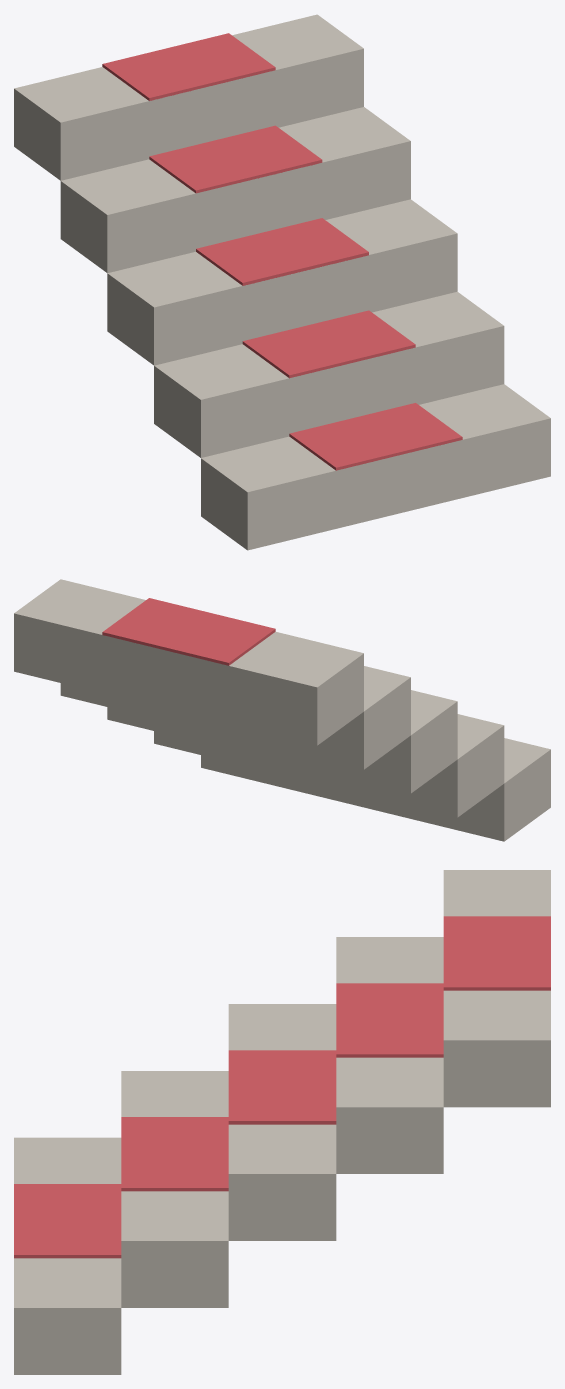
Rendered from stairs.glb.
3 views of the same model, one above another, from view 1: azimuth 30°, elevation 25°; view 2: azimuth 150°, elevation 25°; view 3: azimuth 270°, elevation 25° (orthographic). The views are drawn at different scales.
Parts seen in each view (by area): view 1: stairs; view 2: stairs; view 3: stairs.
Part boxes in pixels (bbox=[...]): stairs: bbox=[14, 14, 550, 550]; stairs: bbox=[14, 579, 550, 841]; stairs: bbox=[14, 870, 550, 1374].
Bounding box in the file's own units: 1.2 × 1.11 × 1.6.
